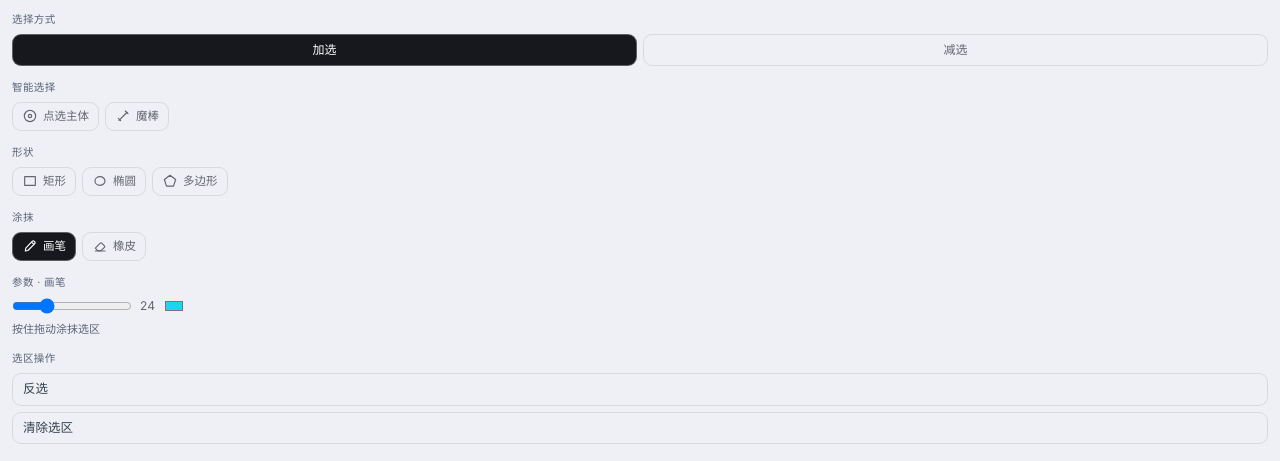
Test: RefineSelectionPanel › 提示行随工具切换（椭圆的 Shift 提示）
The image size is (1280, 461).
Click the button with test id "refine-selection-tool-ellipse" at {"x": 114, "y": 181}, box x1=82 y1=166 x2=146 y2=196
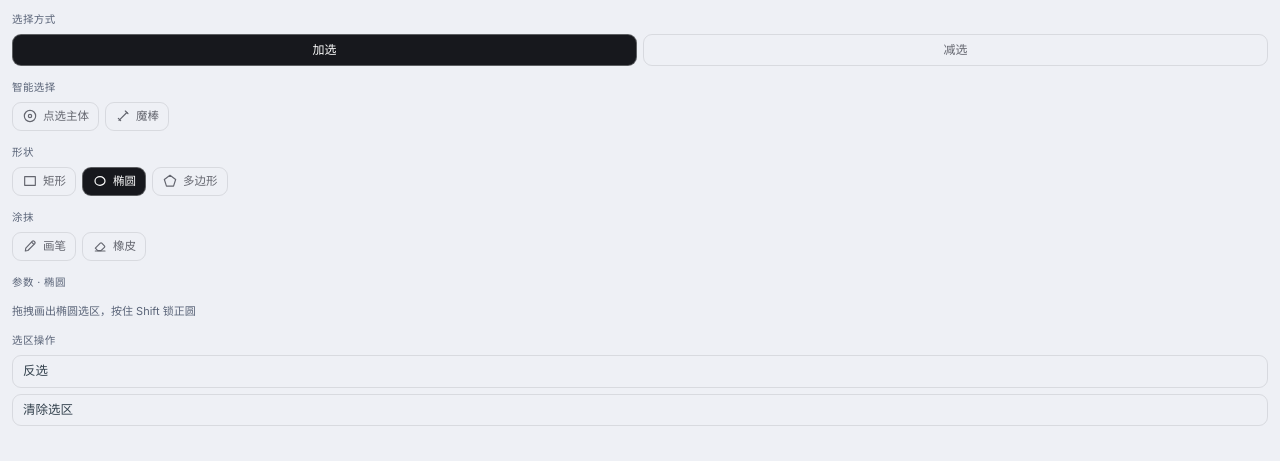
Now the text with test id "refine-selection-param-hint" shows "Shift", box x1=12 y1=304 x2=196 y2=318
